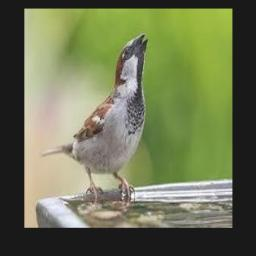Sparrow: (41, 33, 147, 202)
